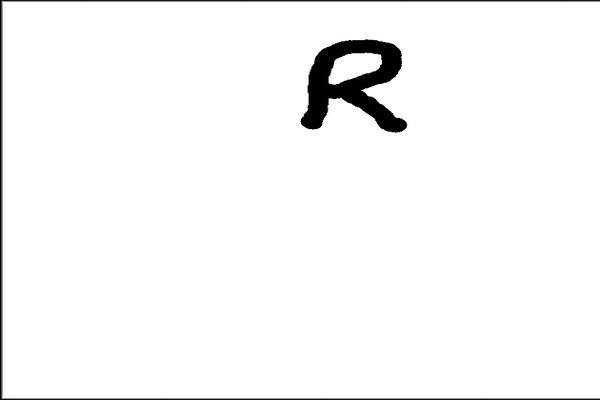R: (294, 32, 412, 140)
